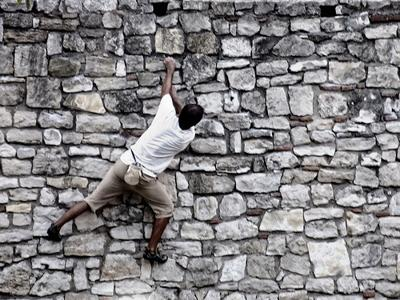person: (46, 54, 205, 267)
